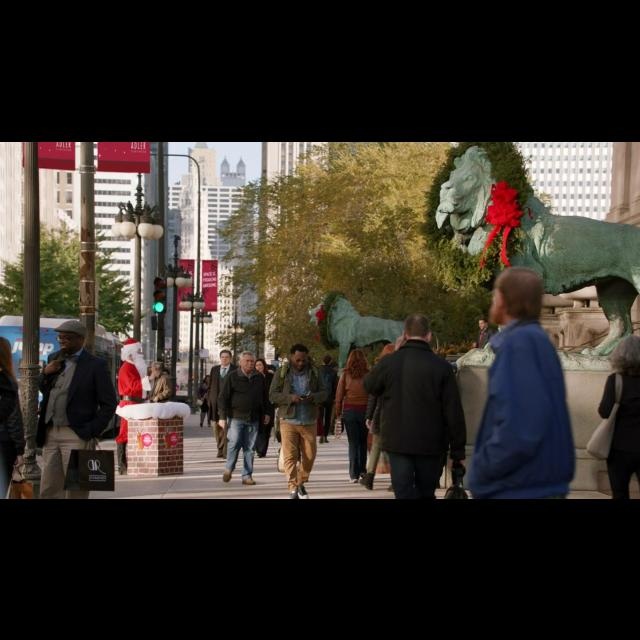head: (490, 266, 542, 322), (403, 314, 433, 344), (58, 320, 86, 352), (288, 343, 310, 371), (124, 340, 144, 362), (238, 349, 256, 371), (0, 336, 12, 364), (384, 342, 400, 363), (350, 348, 366, 368), (220, 349, 232, 365), (478, 316, 489, 330), (151, 361, 163, 373), (322, 354, 334, 366), (256, 358, 266, 372), (330, 361, 340, 373), (206, 375, 212, 383)
person: (356, 338, 422, 494), (108, 334, 164, 478), (216, 349, 274, 487), (329, 346, 383, 486), (203, 346, 249, 462), (242, 356, 282, 459), (142, 358, 174, 462), (313, 354, 342, 446), (319, 360, 346, 436), (474, 316, 501, 384), (195, 372, 219, 428)
